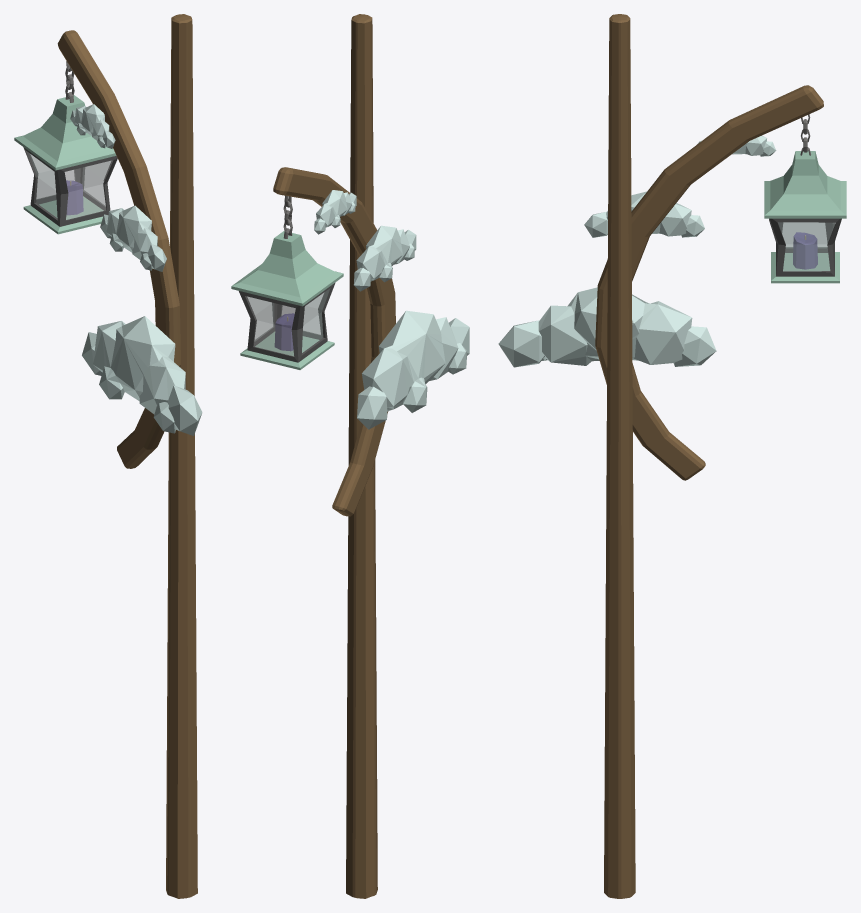
Rendered from Streetlamp (1).fbx.
3 renders of one model, left to right at view 1: azimuth 30°, elevation 25°; view 2: azimuth 150°, elevation 25°; view 3: azimuth 270°, elevation 25°, orthographic.
Visible parts, largest first — view 1: pCube51; view 2: pCube51; view 3: pCube51.
Boxes of the visible parts, x1=… form: pCube51: x1=14, y1=14, x2=202, y2=898; pCube51: x1=231, y1=14, x2=469, y2=898; pCube51: x1=498, y1=14, x2=846, y2=898.
Size of the model in its own units: 51.73 by 499 by 179.
